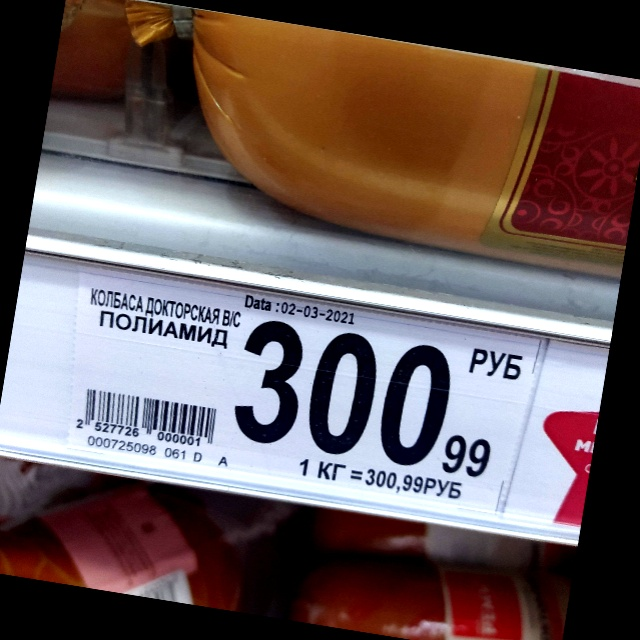barcode: (69, 386, 219, 448)
name: (88, 284, 242, 349)
price: (232, 318, 500, 479)
price_tag: (64, 267, 554, 523)
